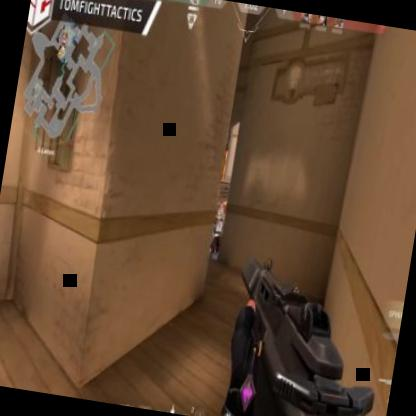enemy: (203, 198, 231, 261), (214, 200, 224, 230)
enemy_head: (216, 211, 223, 221), (219, 201, 223, 207)
